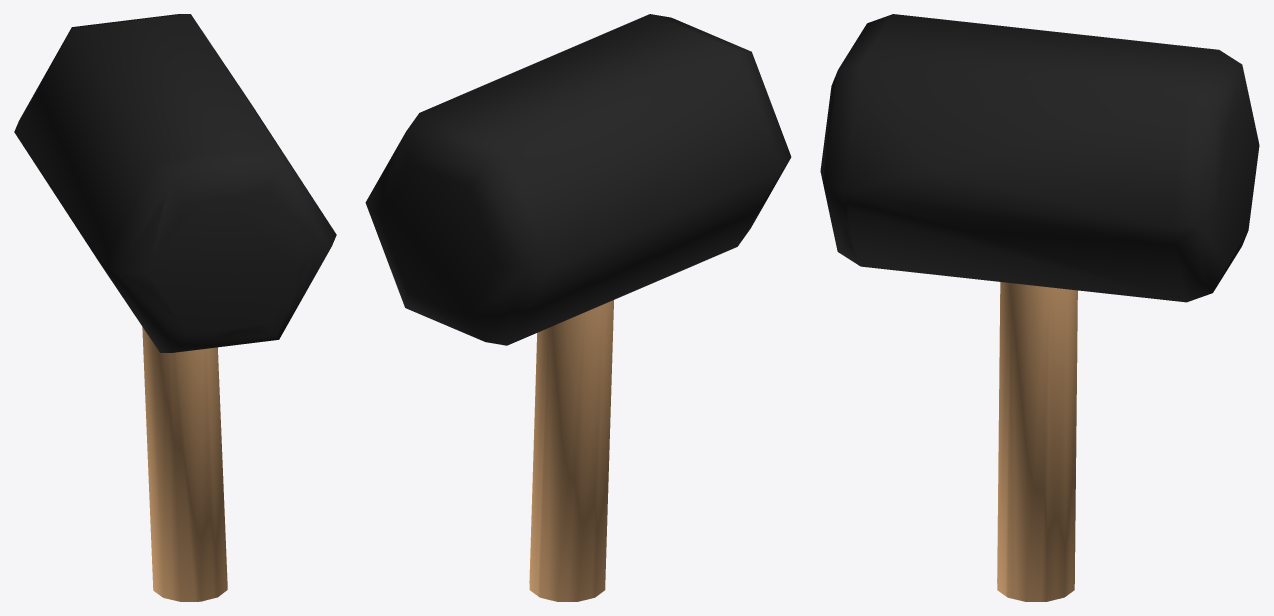
Rendered from herramientas.glb.
3 views of the same model, side by side, from view 1: azimuth 30°, elevation 25°; view 2: azimuth 150°, elevation 25°; view 3: azimuth 270°, elevation 25° (orthographic). The views are drawn at different scales.
Parts seen in each view (by area): view 1: Mesh1_Group1_Component_1_1_Model; view 2: Mesh1_Group1_Component_1_1_Model; view 3: Mesh1_Group1_Component_1_1_Model.
Boxes of the visible parts, x1,y1,x2,y2 form: Mesh1_Group1_Component_1_1_Model: (14,14,336,601); Mesh1_Group1_Component_1_1_Model: (365,14,791,601); Mesh1_Group1_Component_1_1_Model: (820,14,1259,601).
Size of the model in its own units: 0.1179 by 0.2045 by 0.1559.
